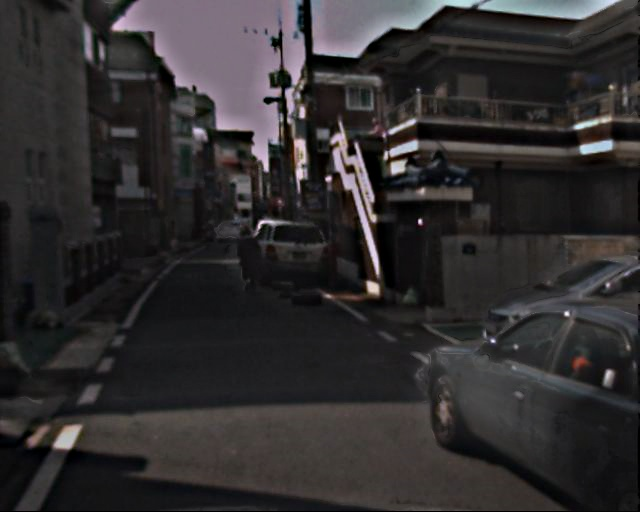person: (233, 226, 261, 295)
